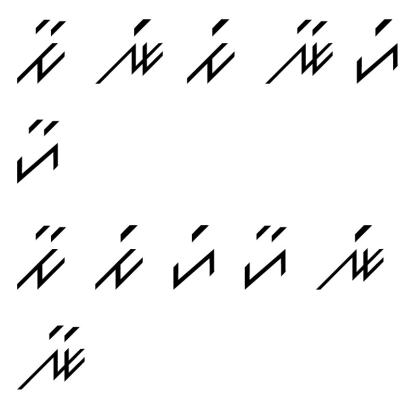han: (8, 119, 67, 185), (240, 218, 288, 295)
hang: (352, 14, 406, 87), (168, 217, 216, 292)
mban: (11, 221, 71, 293), (12, 17, 69, 85)
mbang: (92, 216, 146, 293), (184, 17, 241, 86)
ndan: (14, 320, 90, 392), (258, 15, 335, 86)
ndang: (91, 17, 167, 90), (313, 222, 386, 294)
